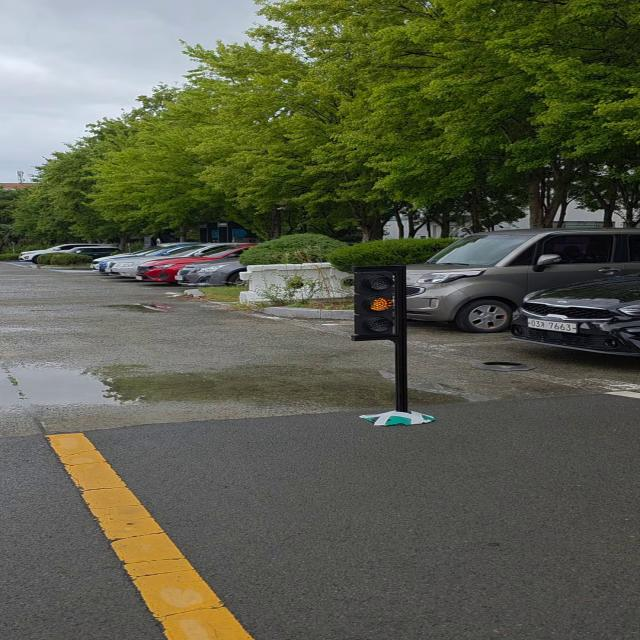yellow: (351, 267, 409, 341)
